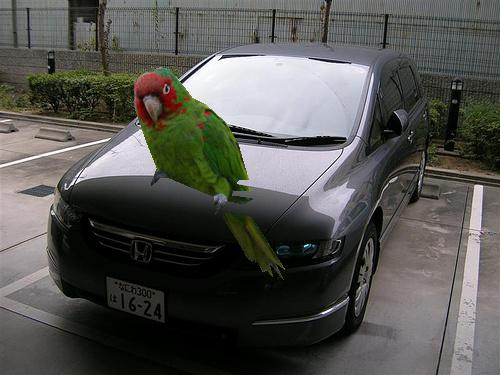tampered: (135, 68, 285, 281)
